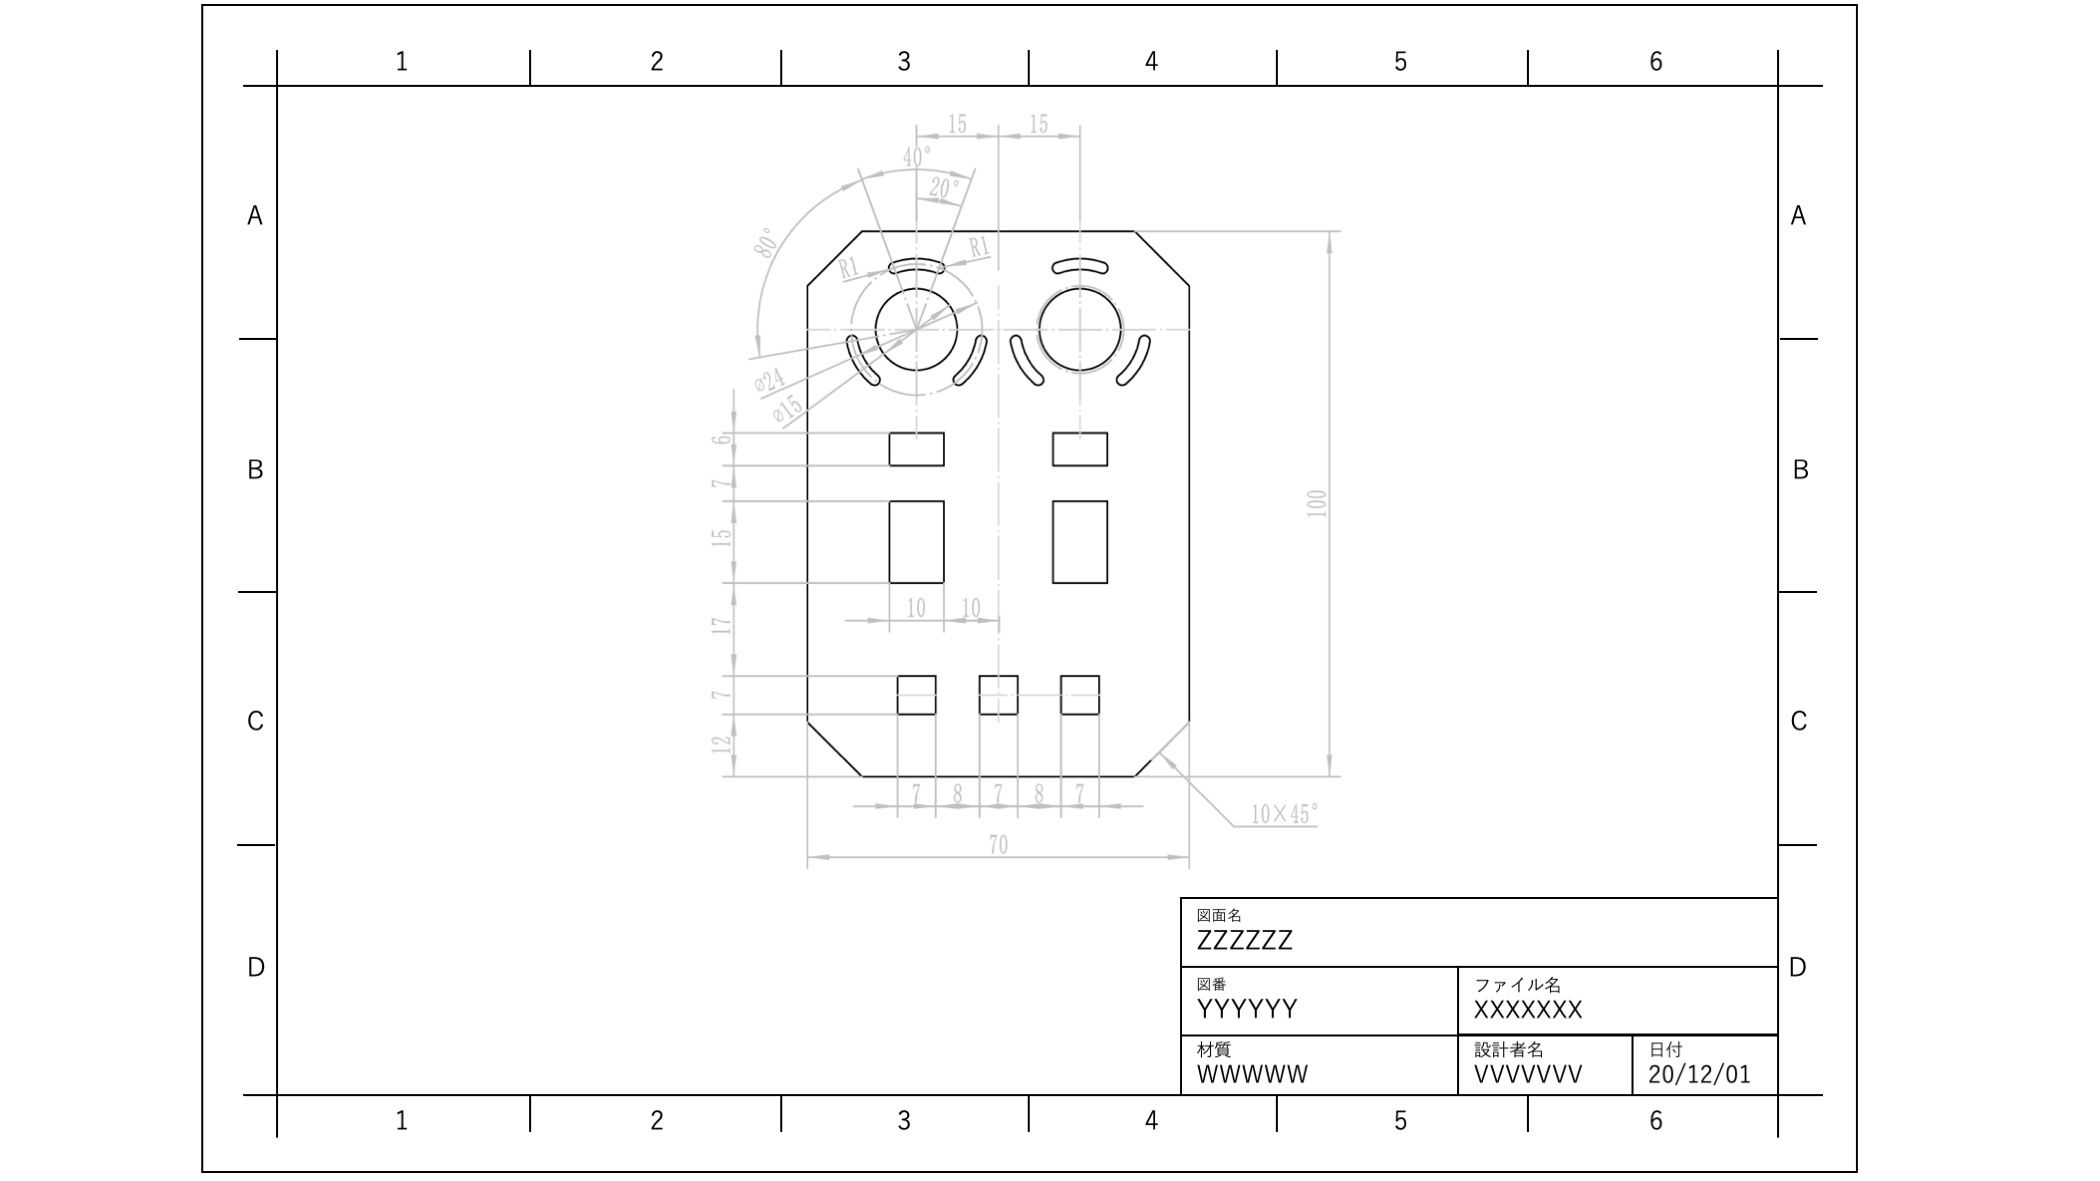circle: (1038, 275, 1125, 375), (877, 287, 961, 378)
rectangle: (1038, 493, 1115, 597), (878, 487, 953, 593), (1046, 412, 1116, 474), (1051, 658, 1106, 730), (878, 420, 949, 472), (896, 658, 940, 720), (981, 668, 1023, 722)
round_rectangle: (837, 324, 888, 392), (1115, 314, 1157, 392), (998, 324, 1046, 392), (950, 319, 991, 389), (1046, 244, 1113, 278), (883, 248, 953, 278)
